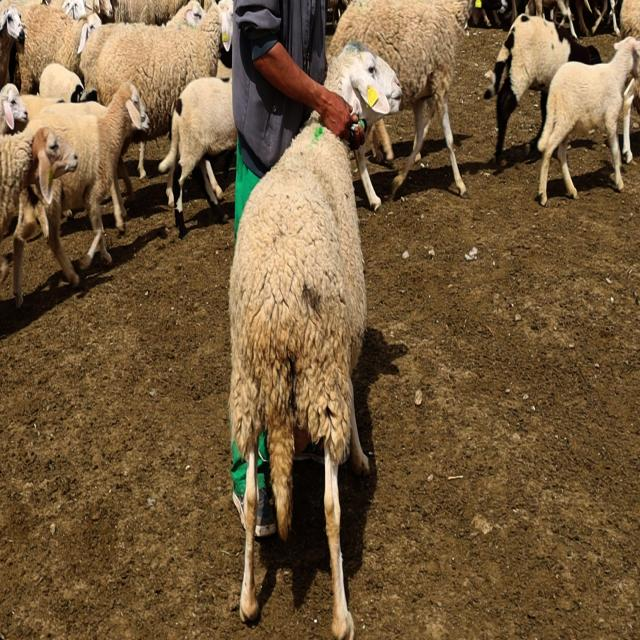Score_3: (228, 124, 369, 639)
